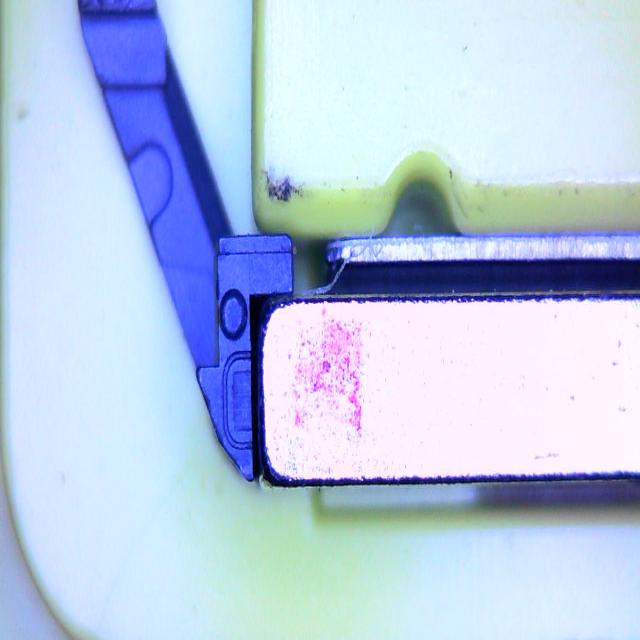noResin: (222, 350, 257, 452)
